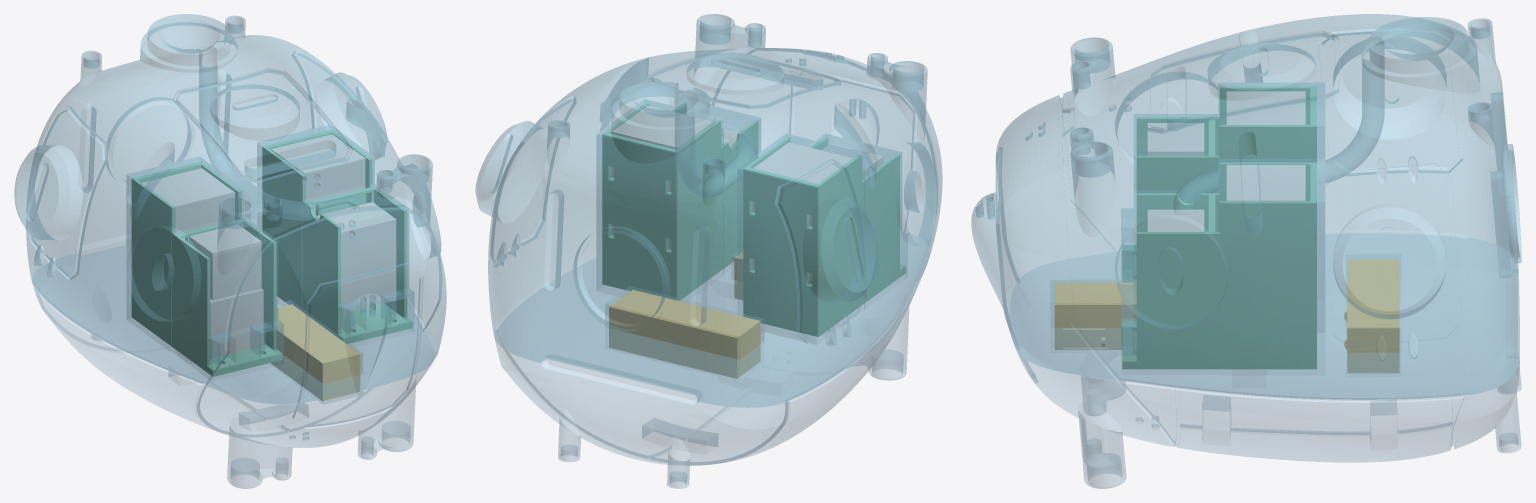
File: candidate-assembly.glb
3 renders of one model, left to right at view 1: azimuth 30°, elevation 25°; view 2: azimuth 150°, elevation 25°; view 3: azimuth 270°, elevation 25°, orthographic. The views are drawn at different scales.
Parts seen in each view (by area): view 1: candidate_cabin_front_with_wire_route, candidate_cabin_back_with_latches, candidate_carrier_0, candidate_carrier_1, 5V_regulator_reserved, candidate_latch_peg_upper, UBEC_reserved, MAX98357A_reserved, ESP32_with_vertical_headers, DFPlayer_reserved; view 2: candidate_cabin_front_with_wire_route, candidate_cabin_back_with_latches, candidate_carrier_0, candidate_carrier_1, candidate_latch_peg_lower, UBEC_reserved, ESP32_with_vertical_headers, MAX98357A_reserved; view 3: candidate_cabin_front_with_wire_route, candidate_cabin_back_with_latches, candidate_carrier_1, candidate_carrier_0, candidate_latch_peg_lower, candidate_latch_peg_upper, UBEC_reserved, ESP32_with_vertical_headers, MAX98357A_reserved, 5V_regulator_reserved.
Part boxes in pixels (bbox=[...]): candidate_cabin_front_with_wire_route: bbox=[14, 14, 446, 403]; candidate_cabin_back_with_latches: bbox=[32, 218, 433, 488]; candidate_carrier_0: bbox=[131, 162, 282, 376]; candidate_carrier_1: bbox=[262, 130, 412, 343]; 5V_regulator_reserved: bbox=[317, 202, 396, 313]; candidate_latch_peg_upper: bbox=[271, 304, 360, 400]; UBEC_reserved: bbox=[271, 134, 365, 213]; MAX98357A_reserved: bbox=[189, 224, 261, 300]; ESP32_with_vertical_headers: bbox=[142, 168, 234, 239]; DFPlayer_reserved: bbox=[210, 288, 263, 357]; candidate_cabin_front_with_wire_route: bbox=[475, 14, 942, 407]; candidate_cabin_back_with_latches: bbox=[495, 230, 928, 488]; candidate_carrier_0: bbox=[743, 137, 906, 336]; candidate_carrier_1: bbox=[602, 102, 758, 300]; candidate_latch_peg_lower: bbox=[609, 290, 760, 378]; UBEC_reserved: bbox=[612, 106, 713, 249]; ESP32_with_vertical_headers: bbox=[753, 142, 852, 283]; MAX98357A_reserved: bbox=[822, 143, 883, 177]; candidate_cabin_front_with_wire_route: bbox=[971, 14, 1521, 399]; candidate_cabin_back_with_latches: bbox=[1009, 234, 1521, 488]; candidate_carrier_1: bbox=[1122, 162, 1316, 369]; candidate_carrier_0: bbox=[1122, 86, 1316, 282]; candidate_latch_peg_lower: bbox=[1344, 259, 1399, 372]; candidate_latch_peg_upper: bbox=[1054, 282, 1136, 349]; UBEC_reserved: bbox=[1226, 165, 1305, 201]; ESP32_with_vertical_headers: bbox=[1226, 91, 1305, 124]; MAX98357A_reserved: bbox=[1147, 123, 1204, 155]; 5V_regulator_reserved: bbox=[1147, 209, 1204, 231].
Size of the model in its own units: 170 by 158 by 195.
